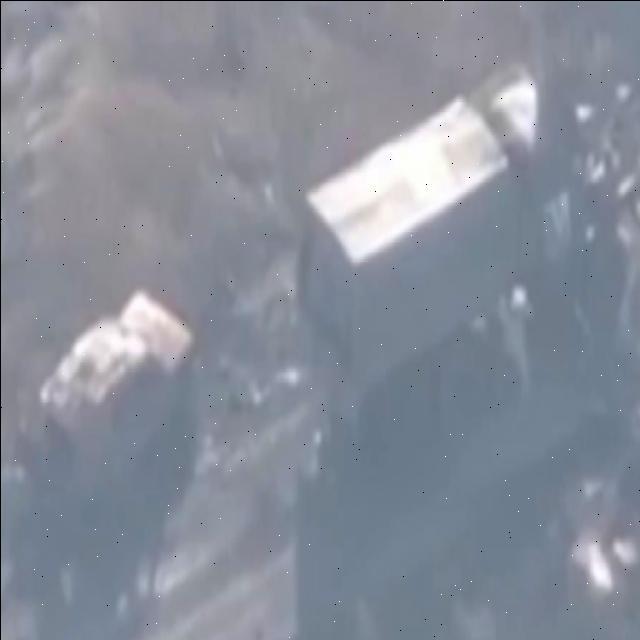CAR: (38, 281, 198, 491)
TRUCK: (295, 48, 593, 442)
